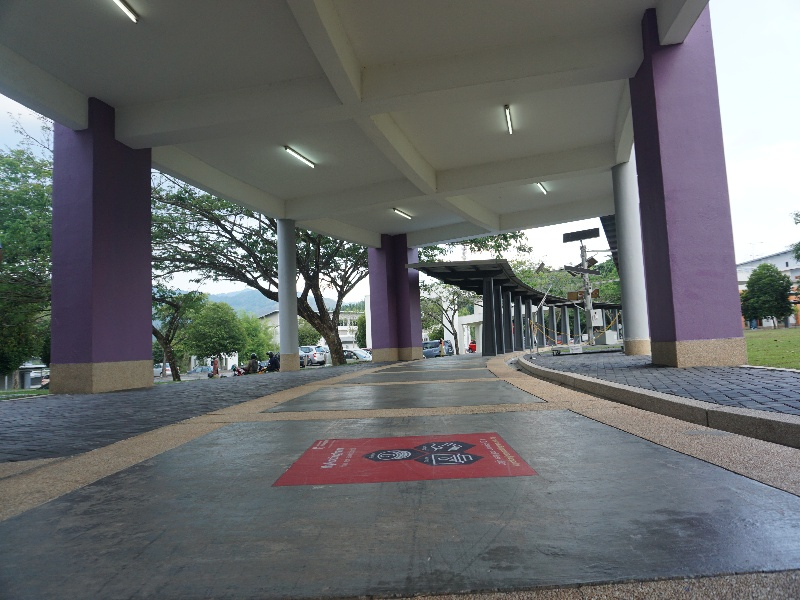Block D Pillar 4: (3, 5, 800, 482)
pillar: (627, 7, 750, 370), (41, 92, 164, 394), (361, 231, 434, 366), (270, 214, 304, 373), (474, 275, 502, 358)
